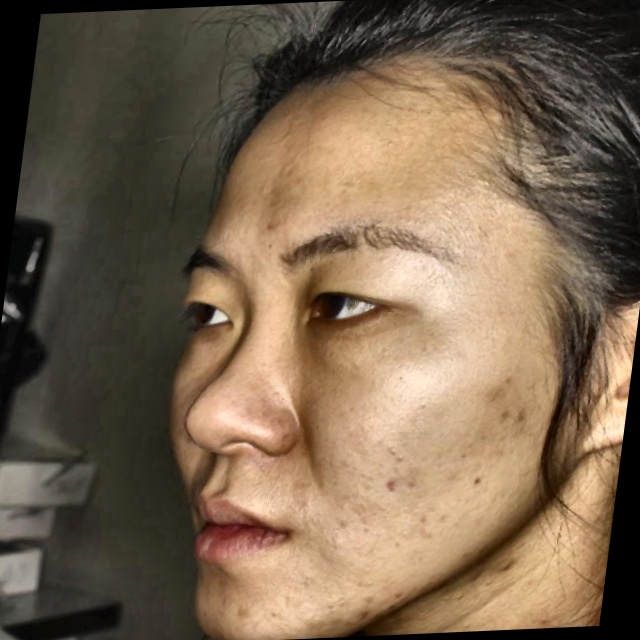comedone: (336, 598, 378, 631), (476, 375, 513, 409)
